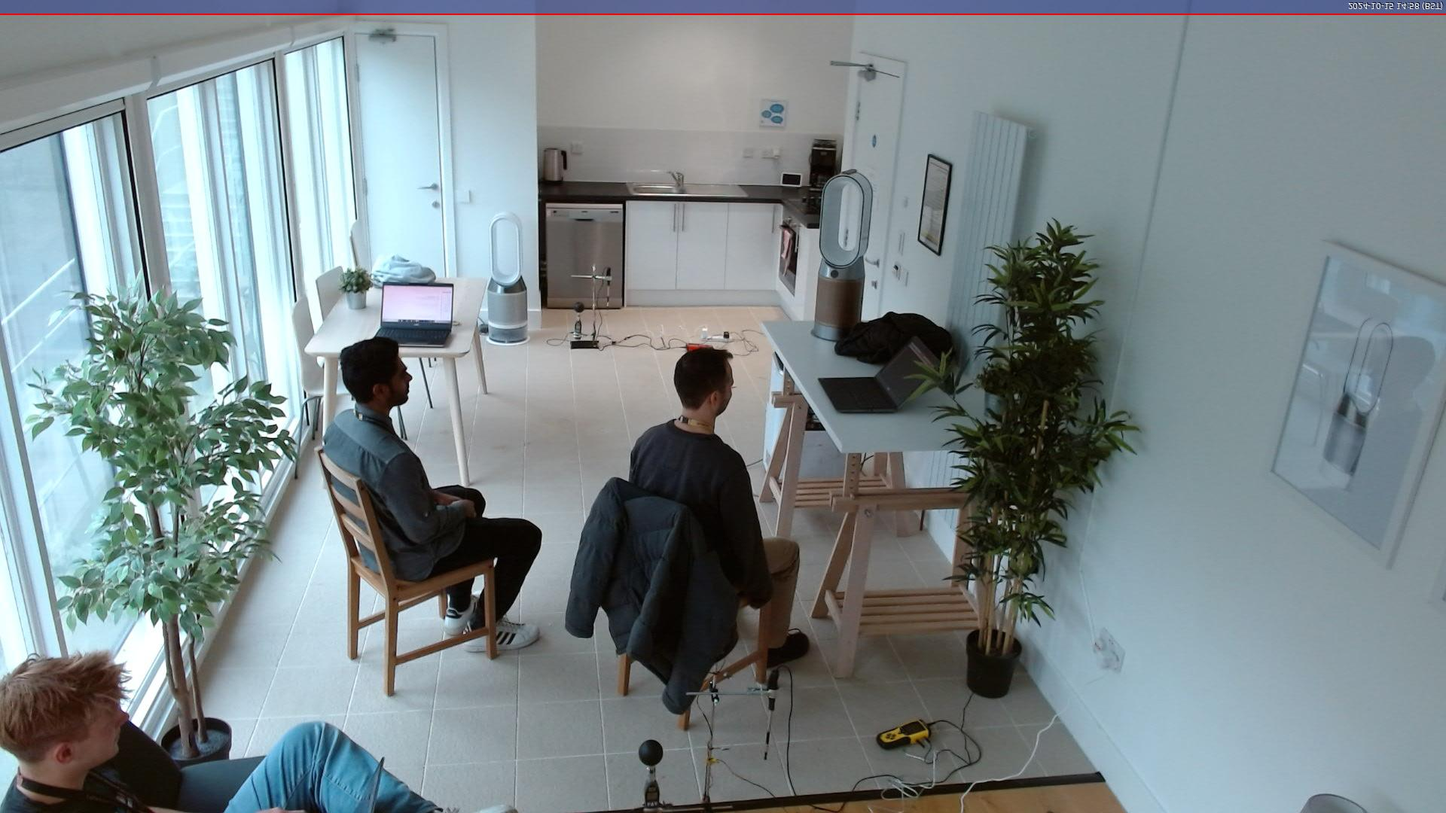long sleeve shirt: (321, 400, 476, 584)
short sleeve shirt: (0, 758, 157, 812)
sweater: (626, 419, 772, 611)
trousers: (220, 716, 447, 813), (426, 481, 544, 623), (730, 531, 802, 654)
